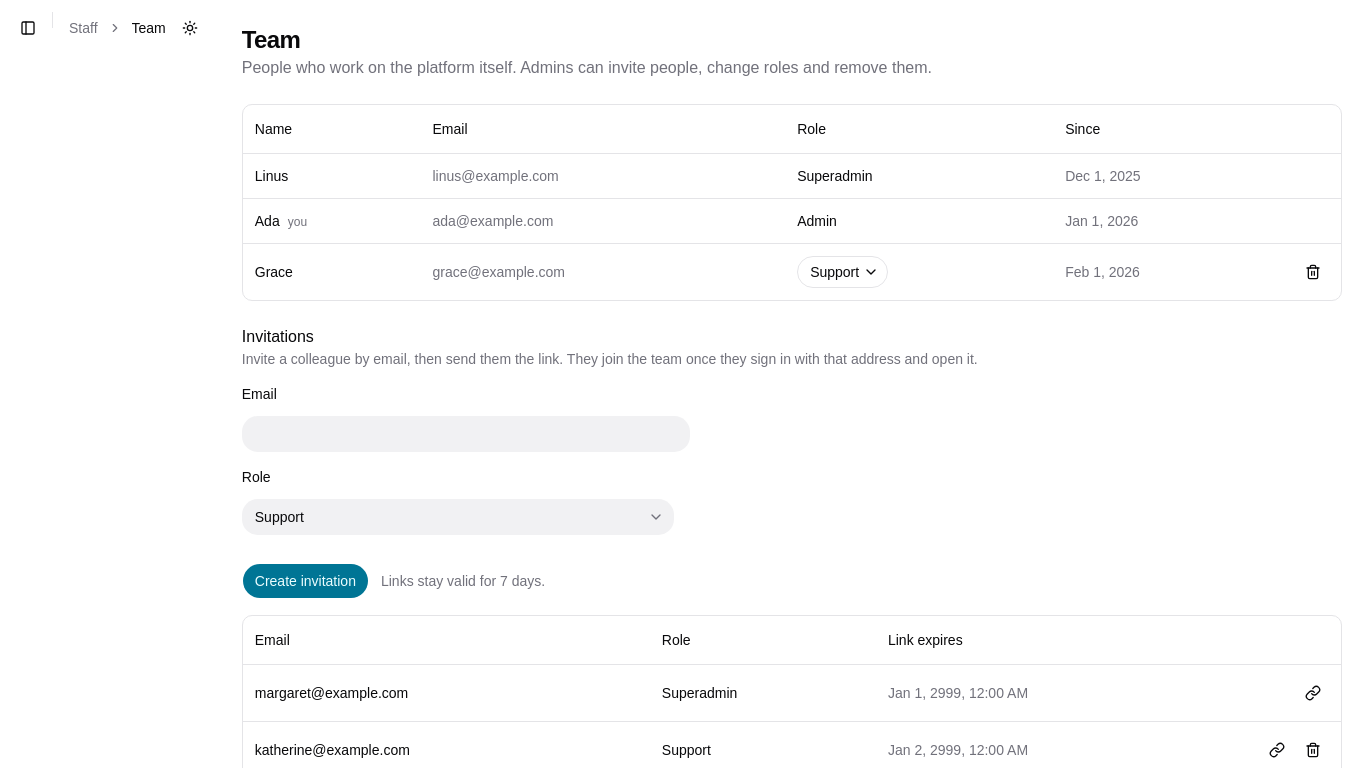
it: StaffTeamPage › never lets an admin reach a superadmin, or offer the superadmin role
Expected: the text "Linus" is shown, [243,153,420,198]
Click the button with aria-label "Change role for Grace".
click(843, 272)  # box [797,256,888,288]
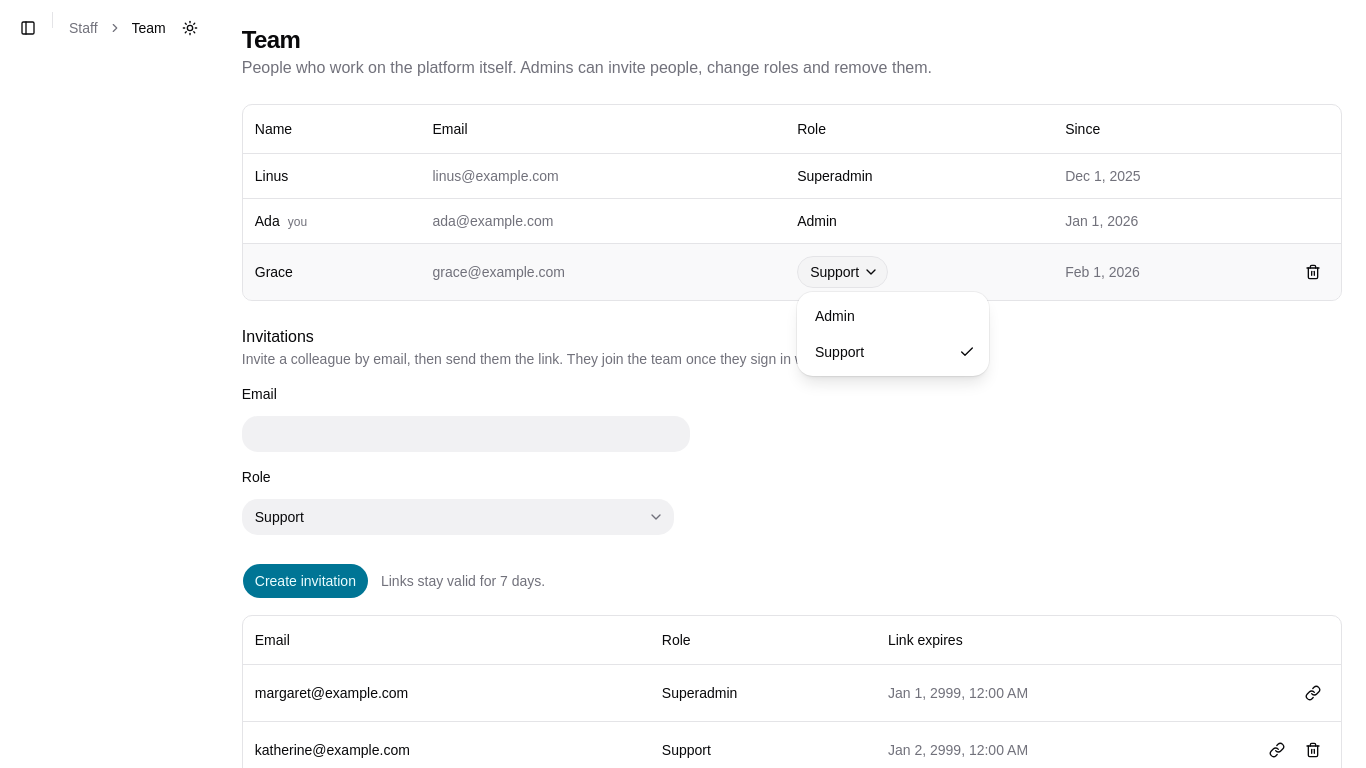
Result: the menu item "Admin" is shown at [815,308,855,324]
